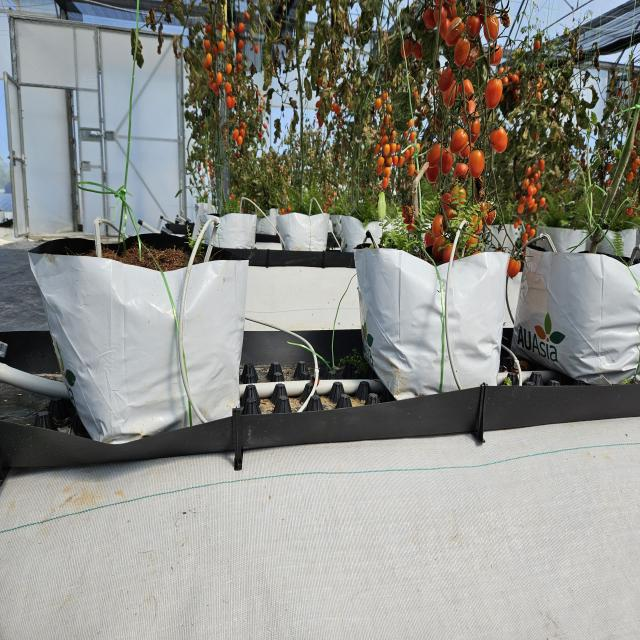Soilbag: (17, 230, 249, 444), (348, 238, 507, 401), (515, 254, 640, 390)
Tomato: (483, 75, 503, 110)
plant: (401, 0, 510, 260), (566, 101, 640, 256)
